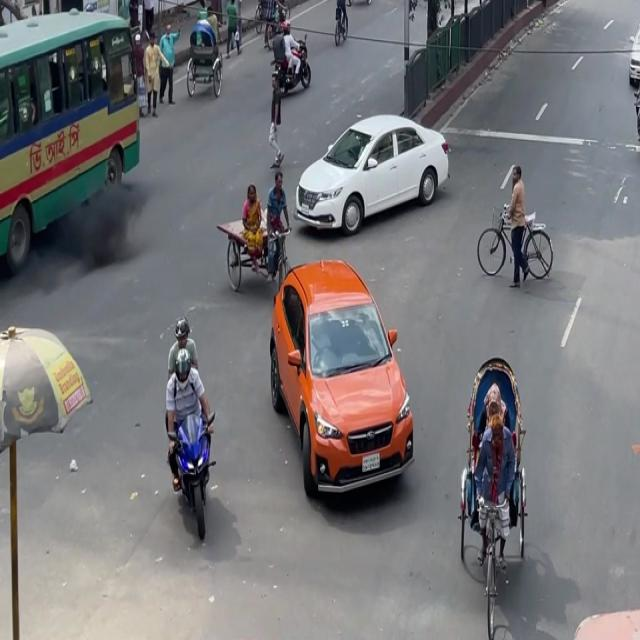bicycle: (473, 208, 556, 289), (329, 0, 355, 51)
bus: (0, 0, 150, 291)
car: (259, 248, 429, 519), (293, 88, 453, 248), (626, 10, 640, 91)
motorbike: (149, 294, 234, 551), (268, 20, 313, 102), (628, 75, 640, 161)
van: (221, 167, 294, 299)
